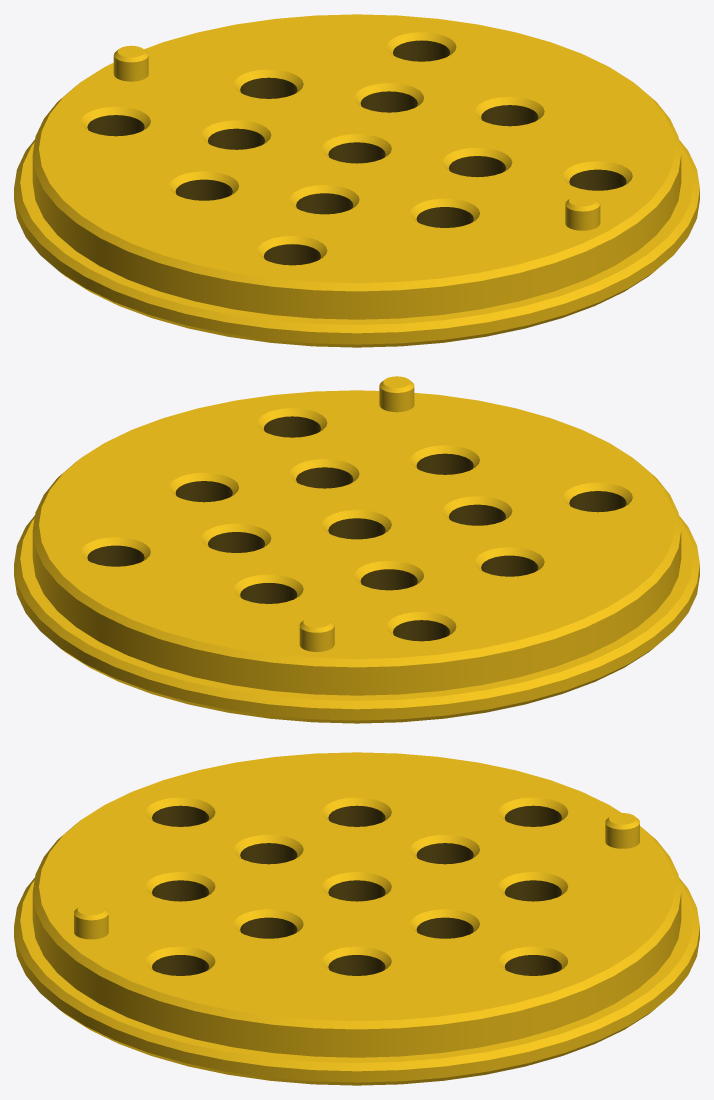
Rendered from rueda-mediana.glb.
3 renders of one model, top to bottom at view 1: azimuth 30°, elevation 25°; view 2: azimuth 150°, elevation 25°; view 3: azimuth 270°, elevation 25°, orthographic.
Parts seen in each view (by area): view 1: geometry_0, geometry_1; view 2: geometry_0, geometry_1; view 3: geometry_0, geometry_1.
Boxes of the visible parts, x1,y1,x2,y2 form: geometry_0: (14, 14, 699, 347); geometry_1: (87, 40, 626, 265); geometry_0: (14, 376, 699, 723); geometry_1: (87, 416, 626, 641); geometry_0: (14, 752, 699, 1085); geometry_1: (152, 805, 561, 975).
Bounding box in the file's own units: 0.055 × 0.007 × 0.055.
